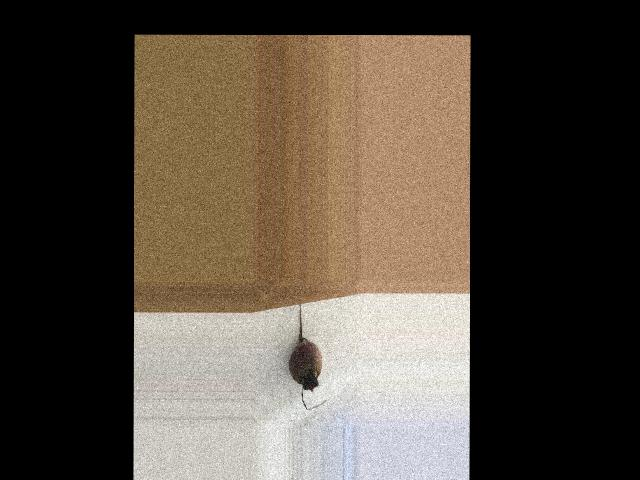beet: (288, 301, 326, 409)
